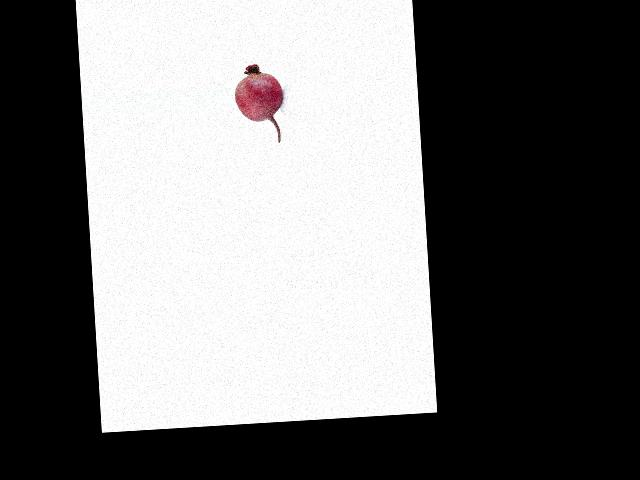beet: (233, 63, 285, 145)
